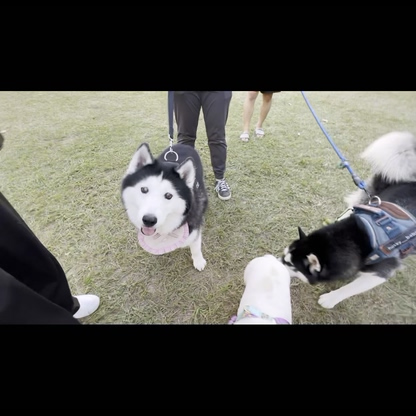husky: (116, 135, 215, 275)
